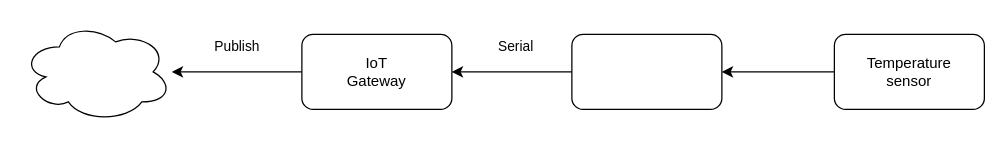
The diagram is 1006 pixels wide and 144 high, and some of its shapes have lost their labels. The shapes that lost their labels are listed below. From the top down, each one's centre as x and y in pixels, then its label:
At point 96,71: "MQTT Broker".
At point 646,71: "Embedded System".
